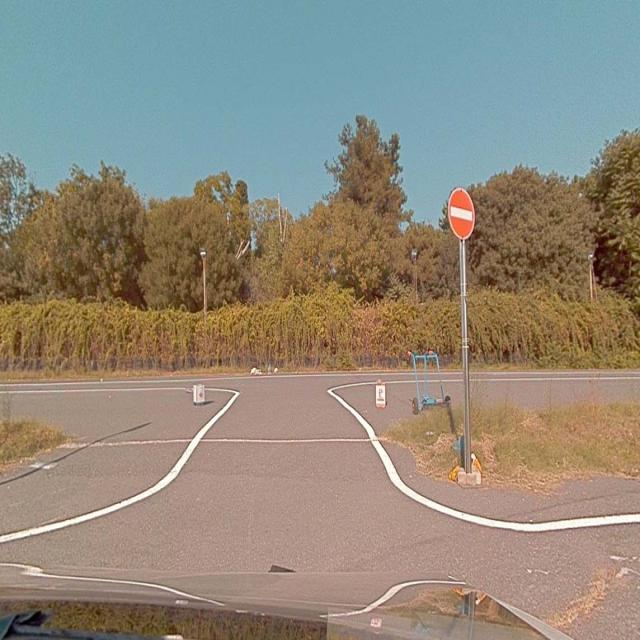girisyok: (448, 190, 473, 237)
